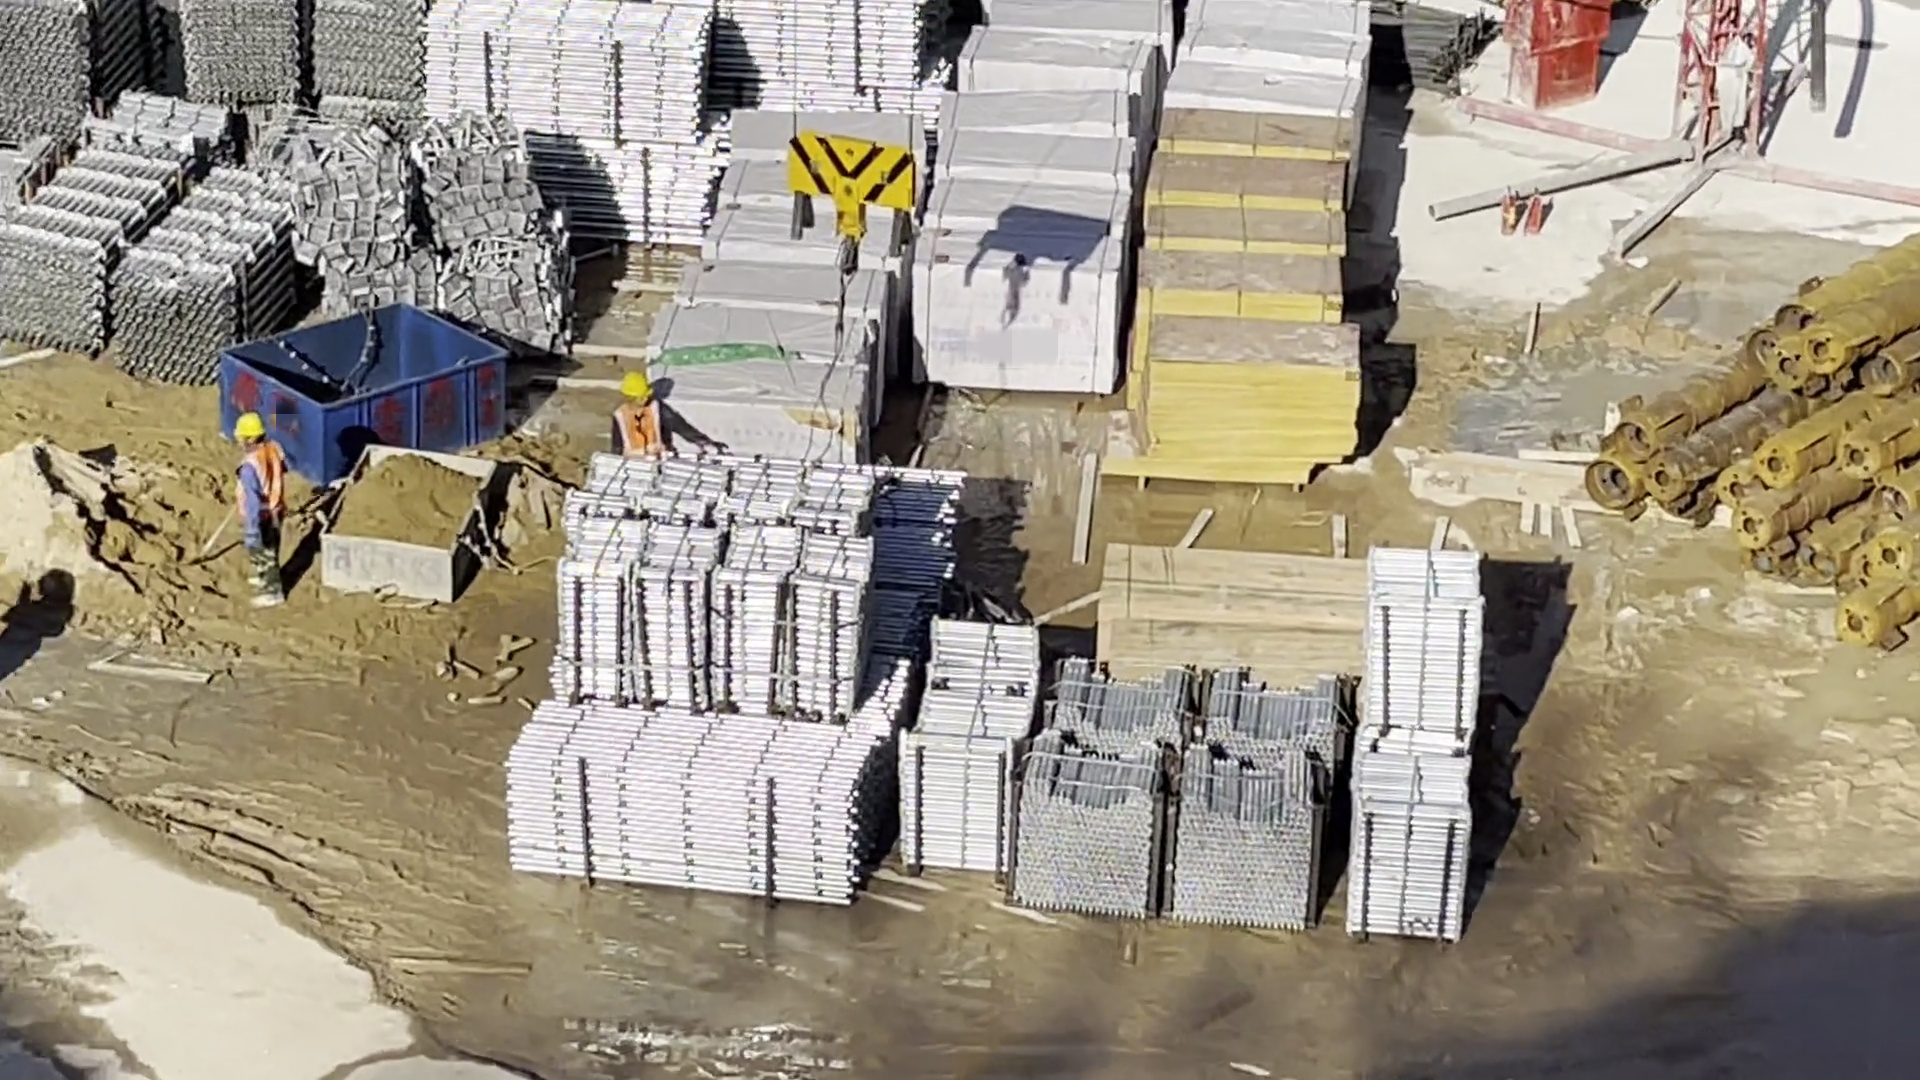helmet: (218, 404, 275, 456), (613, 363, 663, 414)
hook: (775, 114, 925, 265)
hopper: (228, 292, 506, 460), (348, 429, 501, 606)
person: (206, 422, 316, 591), (576, 367, 732, 471)
scaffold: (582, 457, 1006, 903), (10, 1, 246, 376), (1049, 635, 1334, 936), (299, 1, 915, 121), (1343, 529, 1472, 935), (485, 117, 690, 247)
vest: (220, 450, 288, 512), (596, 396, 667, 444)
